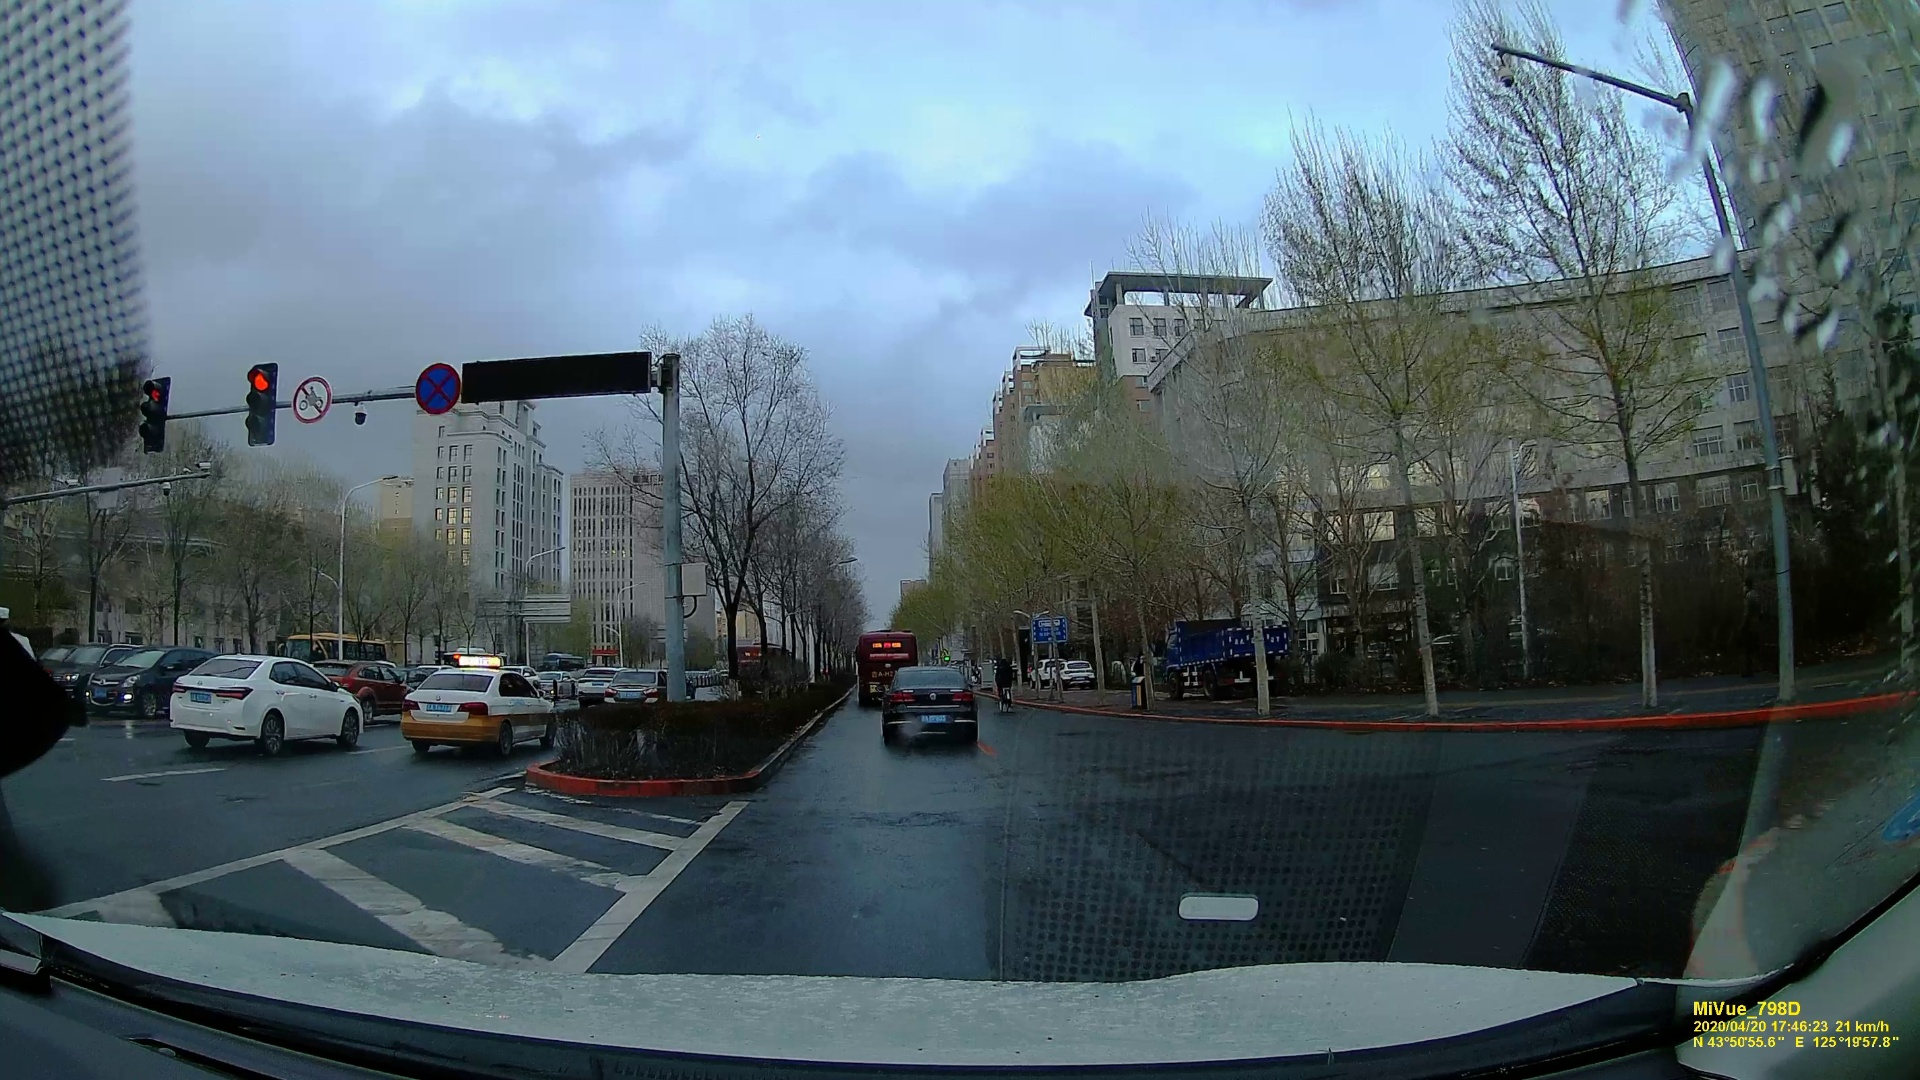bus: (851, 627, 918, 700)
person: (995, 655, 1014, 710), (1130, 650, 1146, 700)
traffic_sign: (132, 373, 165, 449), (416, 363, 460, 415), (243, 363, 271, 440), (287, 372, 328, 425), (1028, 617, 1071, 645)
truck: (1164, 617, 1285, 700)
vehicle: (171, 653, 358, 754), (395, 665, 552, 759), (879, 666, 989, 746), (85, 645, 203, 719), (602, 667, 666, 704)
